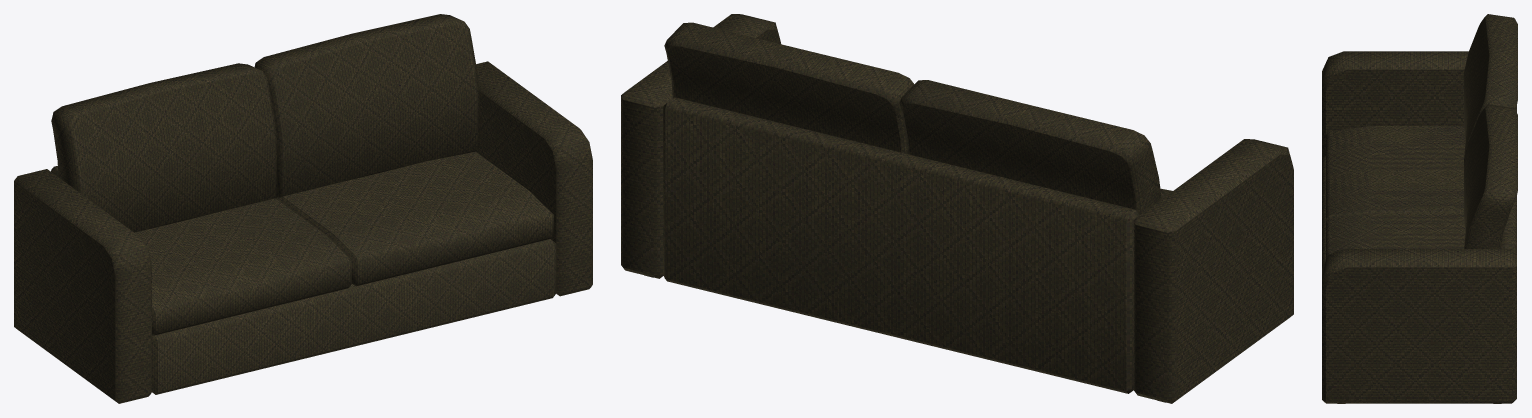
Rendered from sofa_1_1.glb.
3 views of the same model, side by side, from view 1: azimuth 30°, elevation 25°; view 2: azimuth 150°, elevation 25°; view 3: azimuth 270°, elevation 25° (orthographic). The views are drawn at different scales.
Parts seen in each view (by area): view 1: sofa_1_1; view 2: sofa_1_1; view 3: sofa_1_1.
Boxes of the visible parts, left/top/right/bottom form: sofa_1_1: left=14, top=14, right=592, bottom=403; sofa_1_1: left=621, top=14, right=1293, bottom=403; sofa_1_1: left=1322, top=14, right=1517, bottom=403.
Bounding box in the file's own units: 2.6 × 1.16 × 1.
2 materials, 2 textured.
